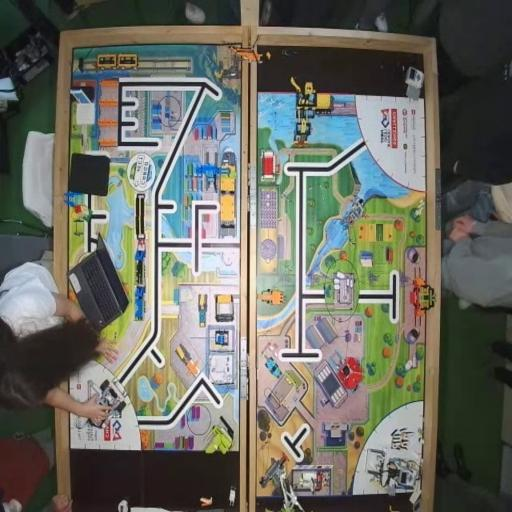lego_robot: (364, 447, 422, 497), (87, 378, 127, 429)
